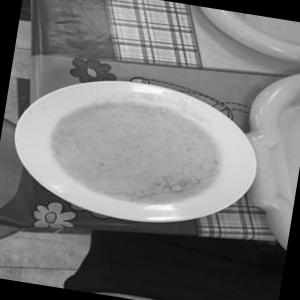porridge: (24, 68, 235, 221)
